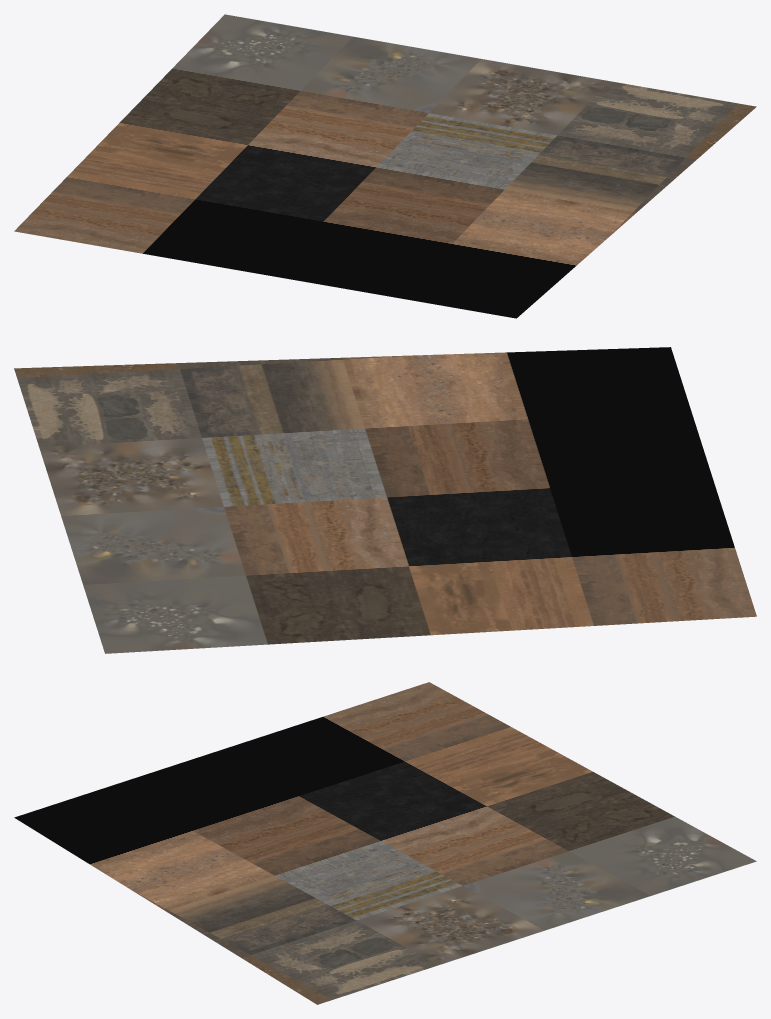
File: SM_Terrain_Road_Hills_Decal_ConcreteBroken_03_01_ATLAS.fbx
3 views of the same model, one above another, from view 1: azimuth 30°, elevation 25°; view 2: azimuth 150°, elevation 25°; view 3: azimuth 270°, elevation 25° (orthographic). The views are drawn at different scales.
Parts seen in each view (by area): view 1: SM_Terrain_Road_Hills_Decal_ConcreteBroken_03_01_ATLAS; view 2: SM_Terrain_Road_Hills_Decal_ConcreteBroken_03_01_ATLAS; view 3: SM_Terrain_Road_Hills_Decal_ConcreteBroken_03_01_ATLAS.
Boxes of the visible parts, x1,y1,x2,y2 form: SM_Terrain_Road_Hills_Decal_ConcreteBroken_03_01_ATLAS: (14, 14, 756, 318); SM_Terrain_Road_Hills_Decal_ConcreteBroken_03_01_ATLAS: (14, 347, 756, 653); SM_Terrain_Road_Hills_Decal_ConcreteBroken_03_01_ATLAS: (14, 682, 756, 1004).
Size of the model in its own units: 427 by 416 by 7.48e-05.
